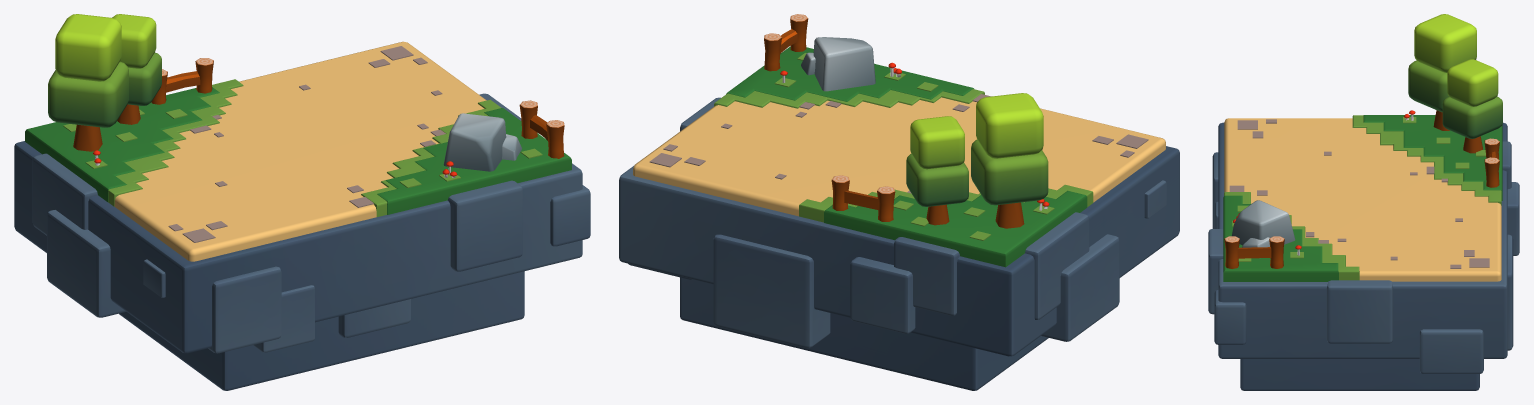
The model's file is Map combat 1.fbx.
The picture shows the model from 3 angles, left to right: view 1: azimuth 30°, elevation 25°; view 2: azimuth 150°, elevation 25°; view 3: azimuth 270°, elevation 25°; orthographic projection. The views are drawn at different scales.
Parts seen in each view (by area): view 1: map_combat; view 2: map_combat; view 3: map_combat.
Boxes of the visible parts, left/top/right/bottom form: map_combat: left=14, top=14, right=590, bottom=390; map_combat: left=619, top=14, right=1179, bottom=390; map_combat: left=1208, top=14, right=1519, bottom=390.
Bounding box in the file's own units: 3009 × 1942 × 2299.
